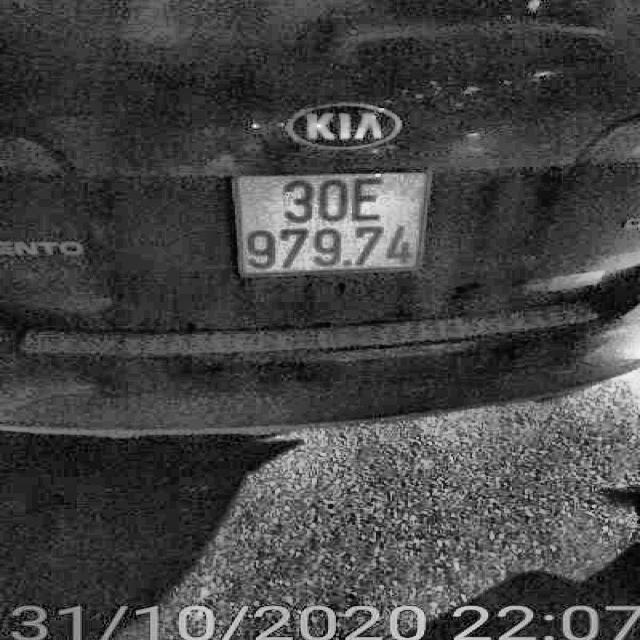plate: (222, 164, 448, 287)
